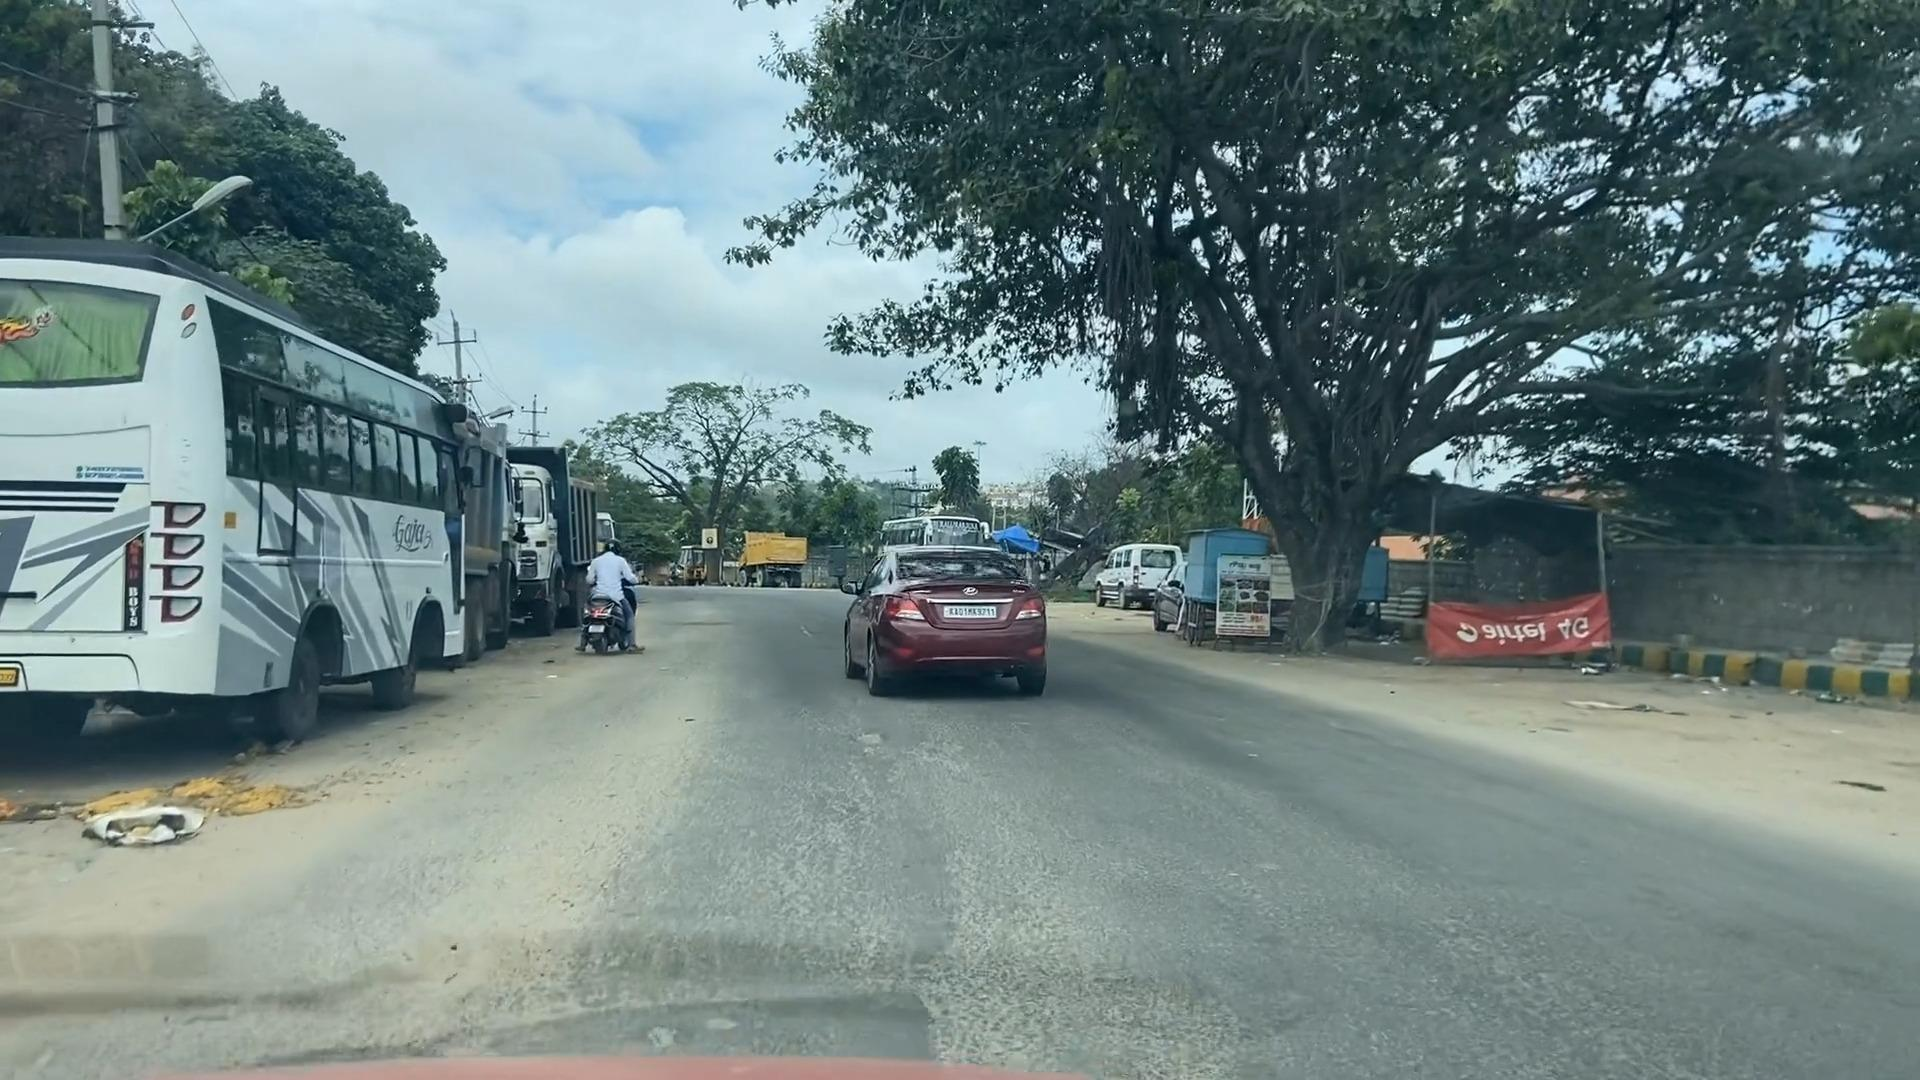HMV: (0, 223, 508, 769), (1087, 530, 1183, 626), (723, 524, 815, 601)
LMV: (832, 534, 1075, 736), (556, 538, 646, 703)
